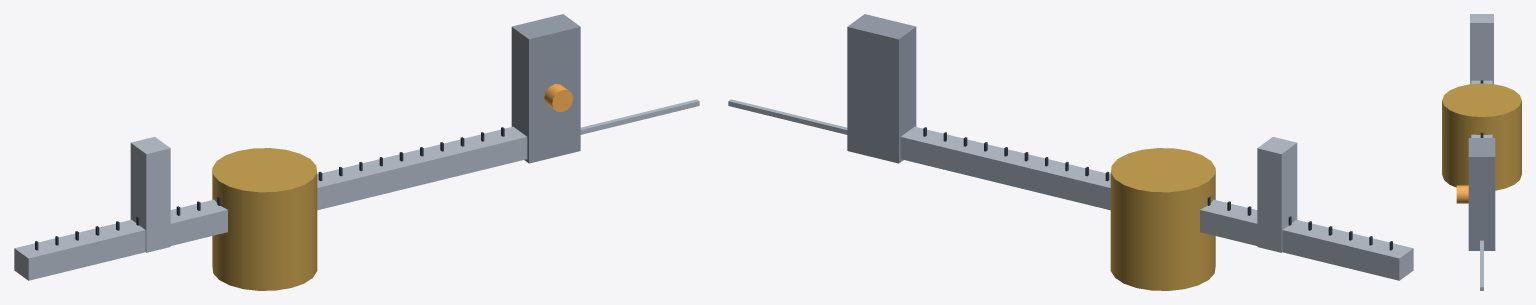
Rendered from vernier-caliper.glb.
The picture shows the model from 3 angles, left to right: view 1: azimuth 30°, elevation 25°; view 2: azimuth 150°, elevation 25°; view 3: azimuth 270°, elevation 25°; orthographic projection. The views are drawn at different scales.
Parts seen in each view (by area): view 1: Caliper, Specimen, Slider, FixedJaw; view 2: Caliper, Specimen, Slider, FixedJaw; view 3: Specimen, Slider, FixedJaw, Caliper.
Boxes of the visible parts, box(x1,y1,x2,y2) form: Caliper: box(14, 99, 699, 280); Specimen: box(212, 148, 317, 290); Slider: box(495, 14, 580, 166); FixedJaw: box(130, 137, 221, 252); Caliper: box(728, 99, 1413, 280); Specimen: box(1110, 148, 1215, 290); Slider: box(847, 14, 932, 166); FixedJaw: box(1206, 137, 1297, 252); Specimen: box(1442, 83, 1521, 190); Slider: box(1456, 138, 1495, 250); FixedJaw: box(1470, 14, 1493, 84); Caliper: box(1471, 80, 1492, 290).
Size of the model in its own units: 4.45 by 1.09 by 0.6.
